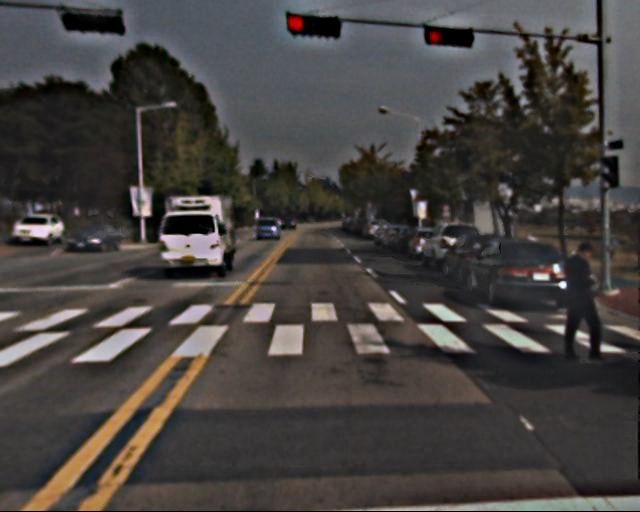person: (556, 240, 610, 365)
